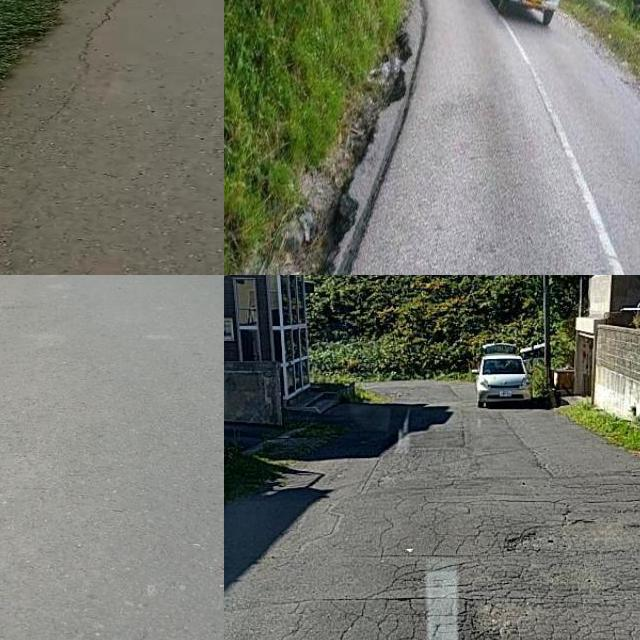Pinggir: (259, 0, 457, 275), (0, 0, 142, 154)
Retak Buaya: (341, 560, 640, 640)
